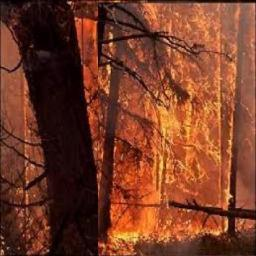Medium fire: (4, 0, 237, 245)
